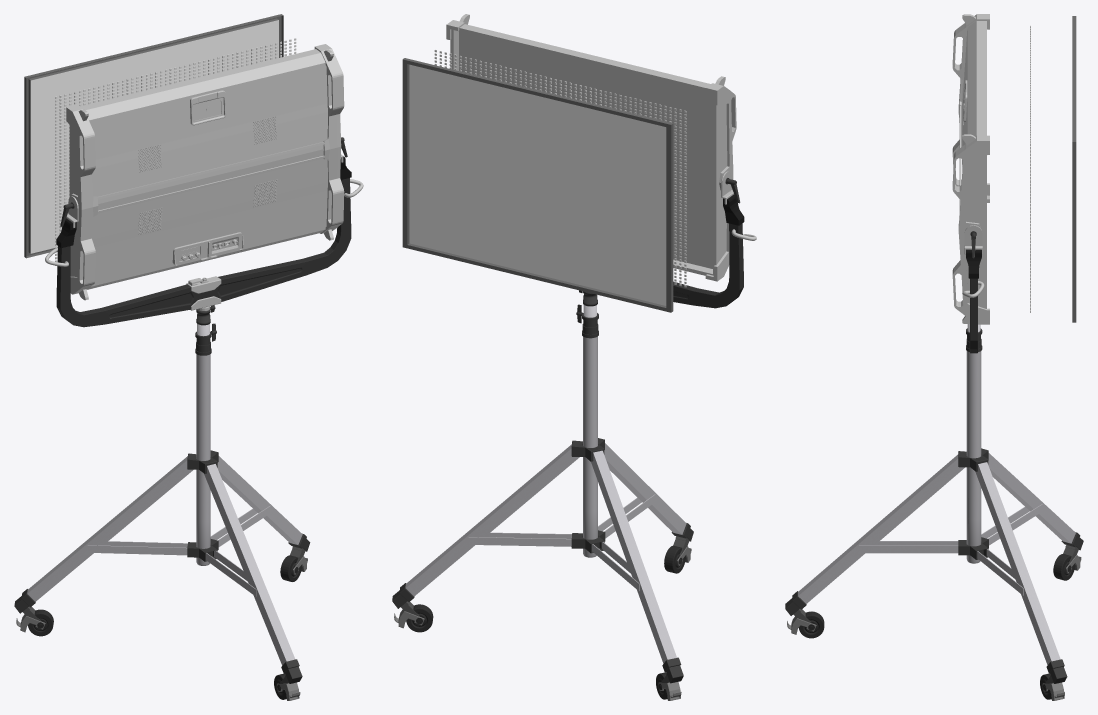
File: Arri_SkyPanel.fbx
The picture shows the model from 3 angles, left to right: view 1: azimuth 30°, elevation 25°; view 2: azimuth 150°, elevation 25°; view 3: azimuth 270°, elevation 25°; orthographic projection. The views are drawn at different scales.
Visible parts, largest first — view 1: Panel_body.003, Panel_frame.003, Light_base.003, Panel_cage.003, Light_pipe_low.003, Panel_Led.003, Light_wheel.005; view 2: Panel_frame.003, Panel_body.003, Light_base.003, Light_pipe_low.003, Panel_Led.003, Panel_cage.003, Light_wheel.005; view 3: Light_base.003, Panel_body.003, Light_pipe_low.003, Light_wheel.005, Panel_cage.003, Panel_frame.003.
Part boxes in pixels (x1,y1,x2,y2): Panel_body.003: [66, 44, 344, 300]; Panel_frame.003: [24, 14, 283, 258]; Light_base.003: [27, 456, 302, 665]; Panel_cage.003: [45, 137, 363, 327]; Light_pipe_low.003: [195, 323, 216, 565]; Panel_Led.003: [55, 38, 296, 265]; Light_wheel.005: [14, 533, 310, 700]; Panel_frame.003: [402, 58, 673, 312]; Panel_body.003: [446, 14, 736, 281]; Light_base.003: [405, 443, 686, 663]; Light_pipe_low.003: [576, 304, 598, 557]; Panel_Led.003: [434, 49, 686, 287]; Panel_cage.003: [673, 171, 756, 308]; Light_wheel.005: [392, 523, 693, 700]; Light_base.003: [798, 453, 1075, 665]; Panel_body.003: [952, 14, 989, 324]; Light_pipe_low.003: [966, 328, 982, 563]; Light_wheel.005: [785, 532, 1083, 700]; Panel_cage.003: [962, 225, 984, 353]; Panel_frame.003: [1072, 16, 1076, 322].
Bounding box in the file's own units: 7623 × 12864 × 6196.
